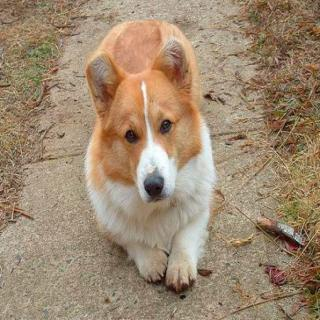dog: (83, 40, 206, 213)
nose: (140, 170, 166, 198)
